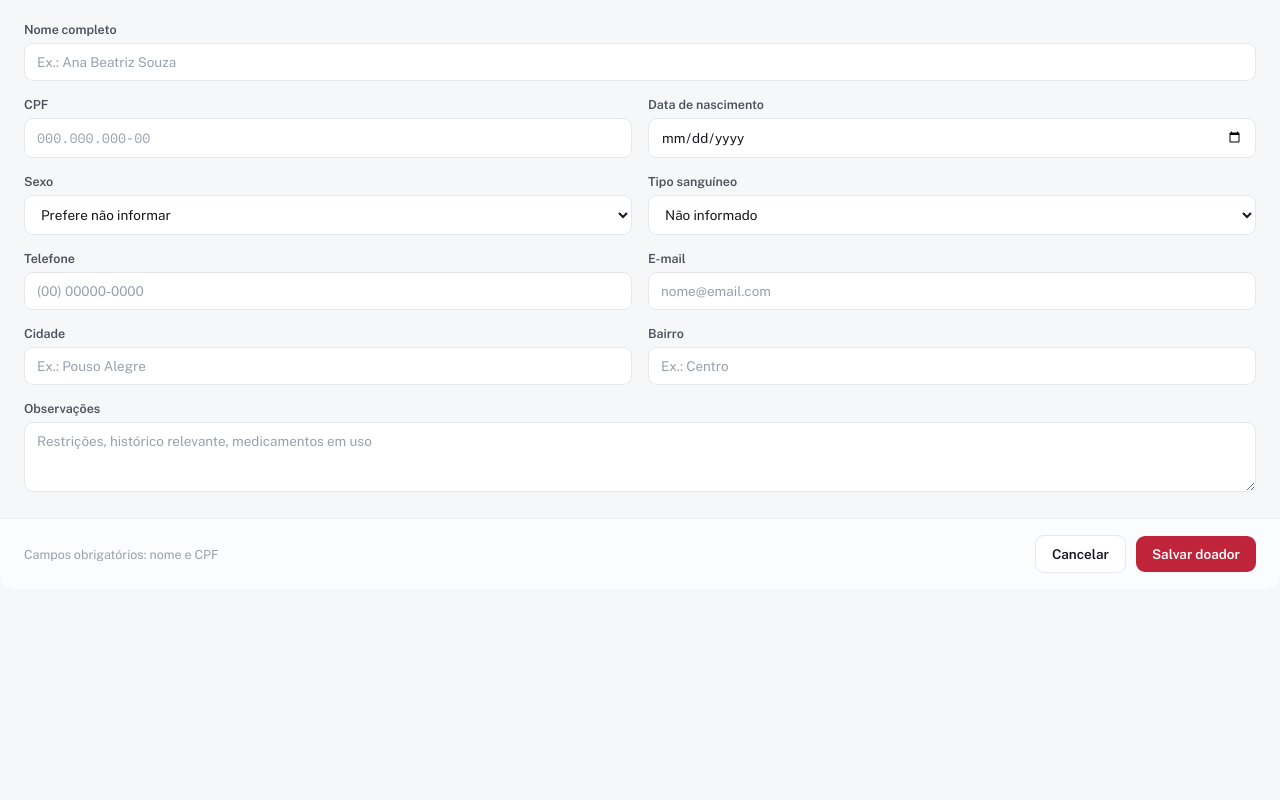
it: DoadorForm › não envia o cadastro quando o CPF é inválido
This screenshot has width=1280, height=800.
In the field labelled "Nome completo": (640, 62) 24,43 -> 1256,81, type "Ana Souza"
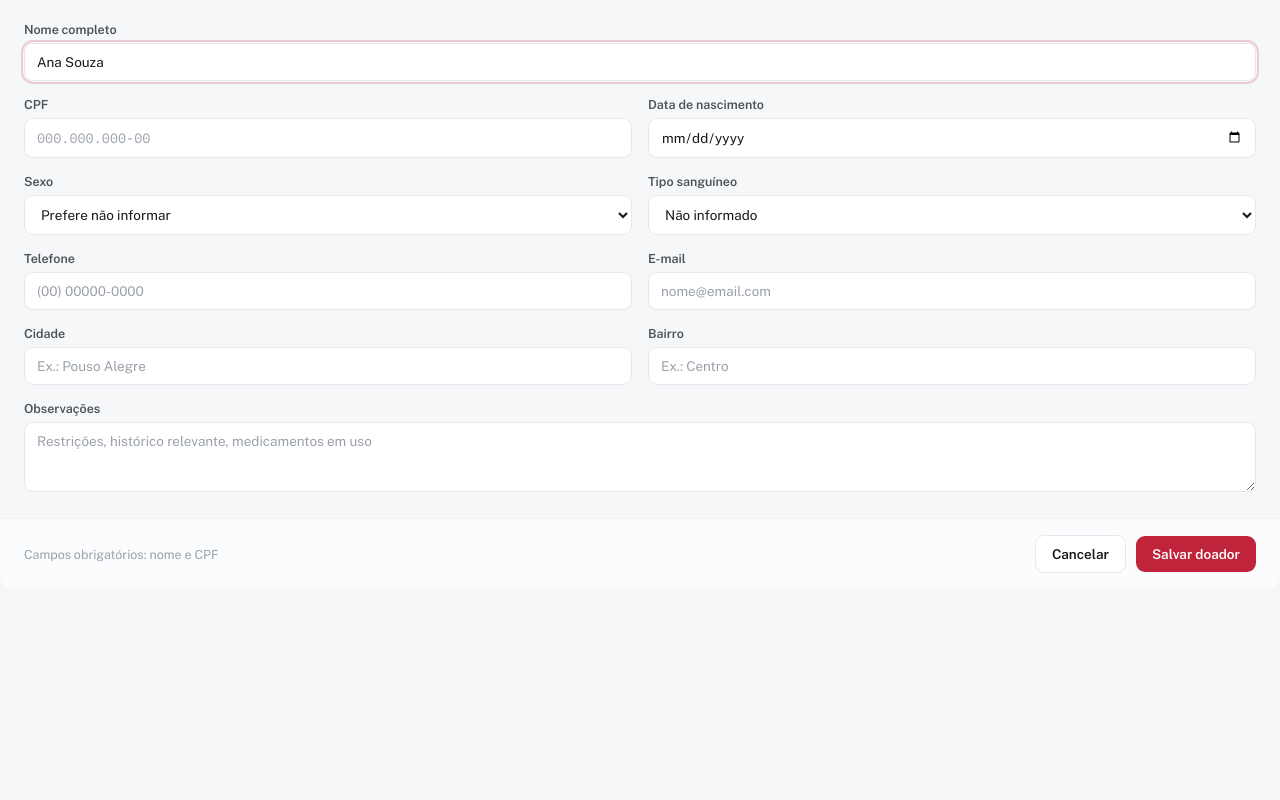
In the field labelled "CPF": (328, 138) 24,118 -> 632,158, type "529.982.247-26"
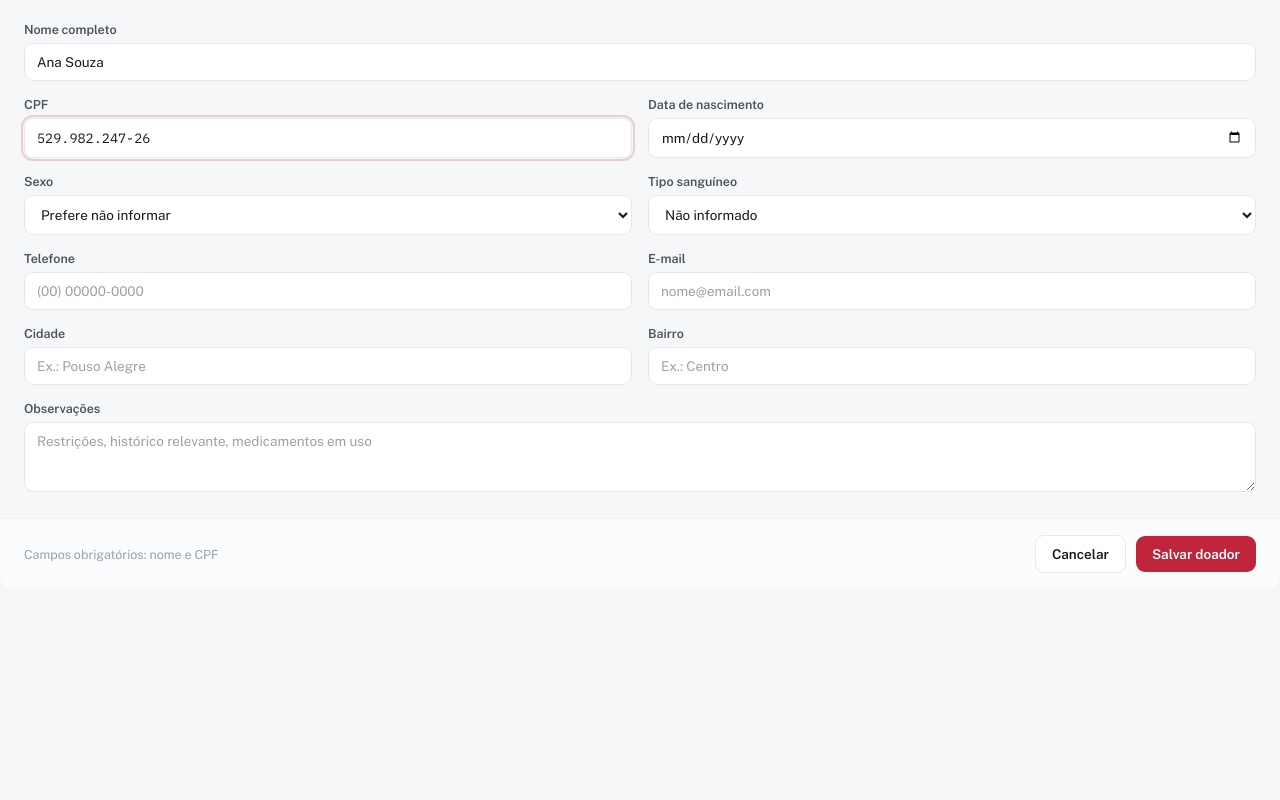
Click the button "Salvar doador": (1196, 554) 1136,536 -> 1256,572
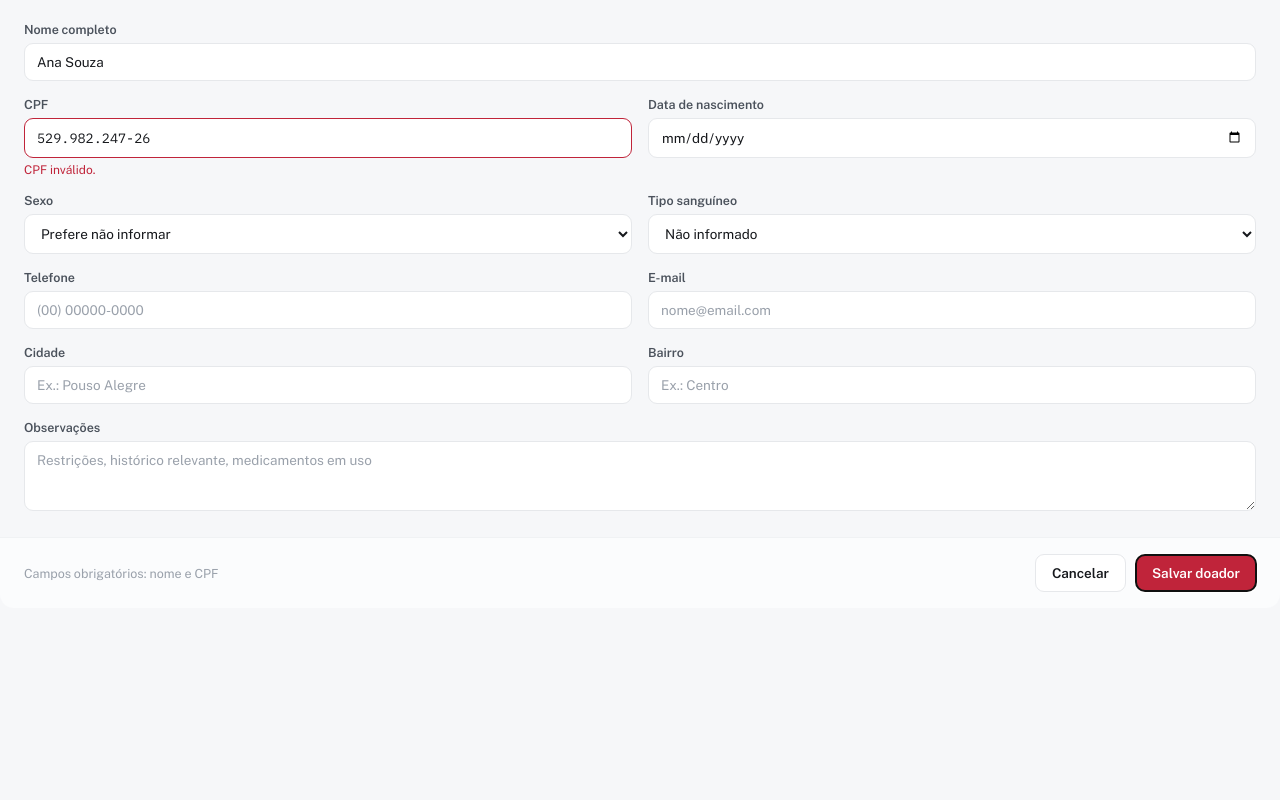
Now the text "CPF inválido." is shown, box 24,163 -> 96,177
